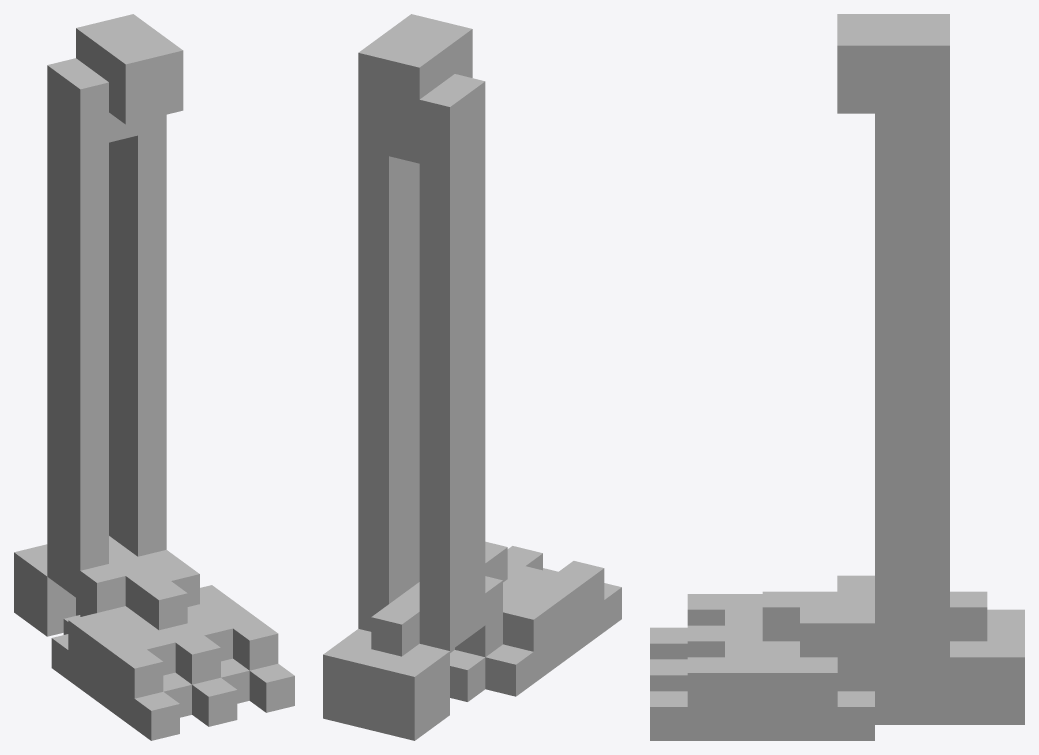
Rendered from EnemySkeleton2-10.obj.
The picture shows the model from 3 angles, left to right: view 1: azimuth 30°, elevation 25°; view 2: azimuth 150°, elevation 25°; view 3: azimuth 270°, elevation 25°; orthographic projection. The views are drawn at different scales.
Size of the model in its own units: 0.5 by 2 by 1.
Materials: 1 (1 with a texture image).
